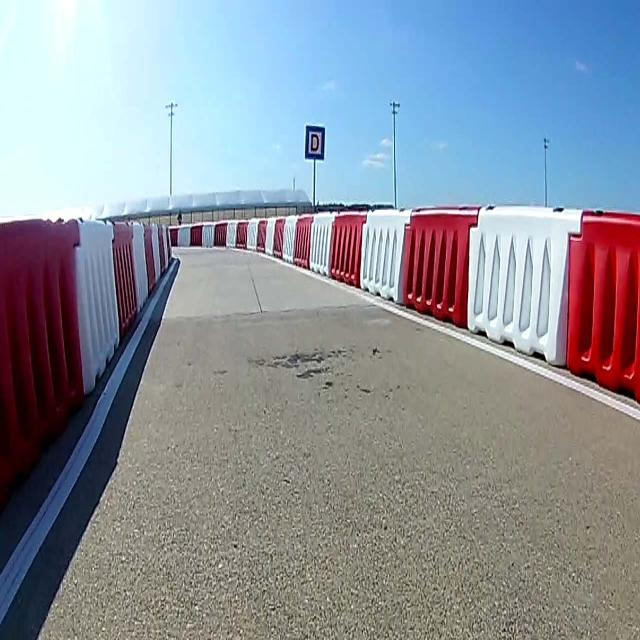durak: (305, 124, 325, 160)
